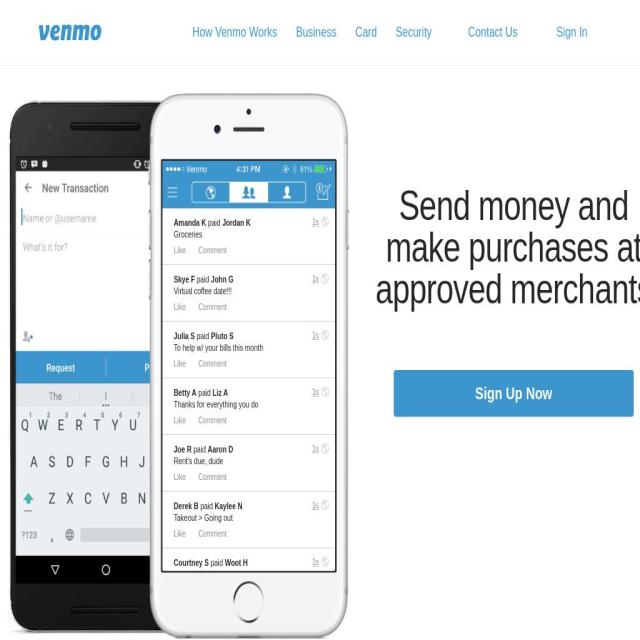button: (394, 370, 634, 417)
heading: (375, 266, 640, 312), (385, 224, 640, 270), (399, 183, 629, 229)
image: (148, 93, 350, 639), (7, 99, 205, 636), (163, 162, 335, 208), (39, 16, 101, 49), (321, 216, 329, 226), (321, 274, 329, 284), (321, 330, 329, 340), (321, 386, 329, 396), (321, 444, 329, 454), (321, 500, 329, 510), (321, 556, 329, 566)
link: (192, 25, 277, 39), (468, 25, 518, 39), (296, 25, 336, 39), (396, 25, 432, 39), (556, 25, 588, 39), (355, 25, 377, 39)
text: (475, 384, 553, 403), (174, 558, 208, 568), (174, 218, 206, 228), (206, 399, 237, 409), (198, 245, 228, 255), (198, 302, 228, 312), (198, 358, 228, 368), (198, 415, 228, 425), (198, 472, 228, 482), (198, 528, 228, 538), (198, 585, 228, 595), (214, 501, 243, 511), (222, 218, 250, 228), (174, 229, 202, 239), (208, 444, 234, 454), (174, 501, 198, 511), (210, 274, 233, 284), (210, 331, 233, 341), (174, 512, 197, 522), (225, 558, 248, 568), (174, 388, 196, 398), (174, 274, 195, 284), (174, 331, 195, 341), (174, 399, 195, 409), (244, 342, 264, 352), (213, 286, 232, 296), (174, 286, 192, 296), (194, 286, 212, 296), (174, 444, 192, 454), (174, 456, 192, 466), (204, 512, 222, 522), (174, 569, 192, 579), (208, 569, 225, 579), (212, 388, 228, 398), (208, 456, 223, 466), (205, 342, 219, 352), (194, 456, 208, 466), (173, 245, 186, 255), (197, 274, 210, 284), (173, 302, 186, 312), (197, 331, 210, 341), (182, 342, 195, 352), (173, 358, 186, 368), (198, 388, 211, 398), (173, 415, 186, 425), (193, 444, 206, 454), (173, 472, 186, 482), (173, 528, 186, 538), (210, 558, 223, 568), (194, 569, 207, 579), (173, 585, 186, 595), (208, 218, 220, 228), (220, 342, 232, 352), (238, 399, 250, 409), (200, 501, 212, 511), (233, 342, 243, 352), (223, 512, 233, 522), (197, 399, 206, 409), (312, 274, 319, 284), (173, 342, 180, 352), (196, 342, 203, 352), (251, 399, 258, 409), (312, 444, 319, 454), (312, 331, 319, 340), (312, 388, 319, 397), (312, 501, 319, 510), (312, 218, 319, 226), (312, 558, 319, 566), (198, 512, 203, 522)
